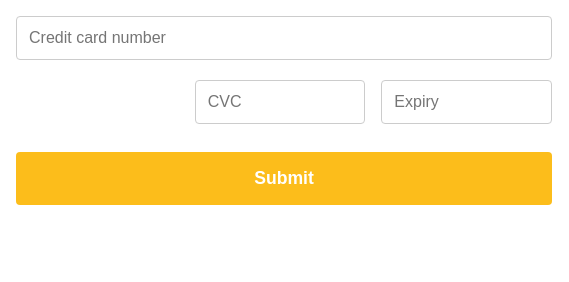
Test case: RegisterCardForm › successful submission shows success message
The width and height of the screenshot is (569, 282).
Type "1234567812345678" into the field with placeholder "Credit card number" at (284, 38), box [16, 16, 552, 60]
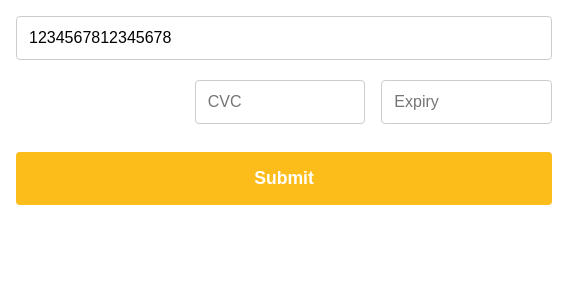
Type "123" into the field with placeholder "CVC" at (280, 102), box [195, 80, 365, 124]
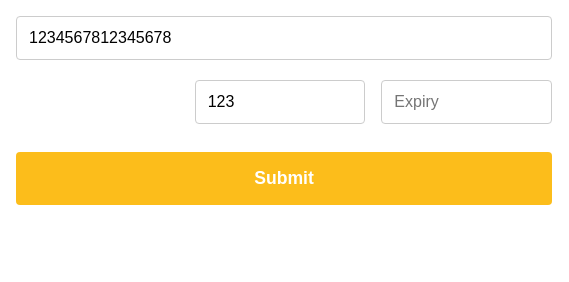
Type "12/25" into the field with placeholder "Expiry" at (467, 102), box [381, 80, 552, 124]
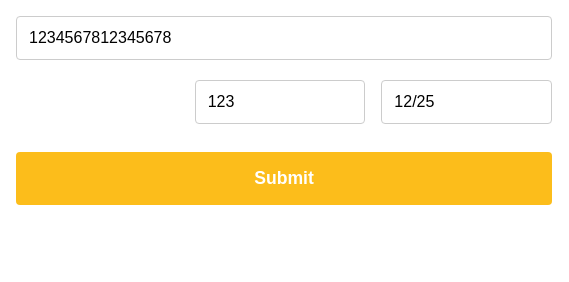
Click the button "Submit" at (284, 178), box [16, 152, 552, 205]
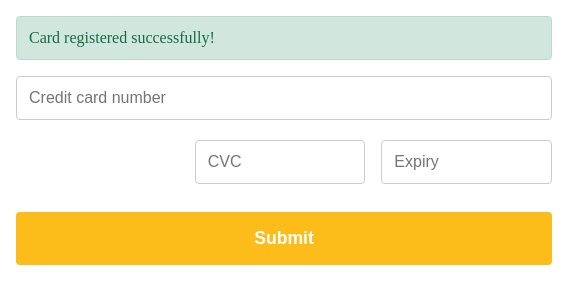
Expected: the text "Card registered successfully!" is shown, [16, 16, 552, 60]
